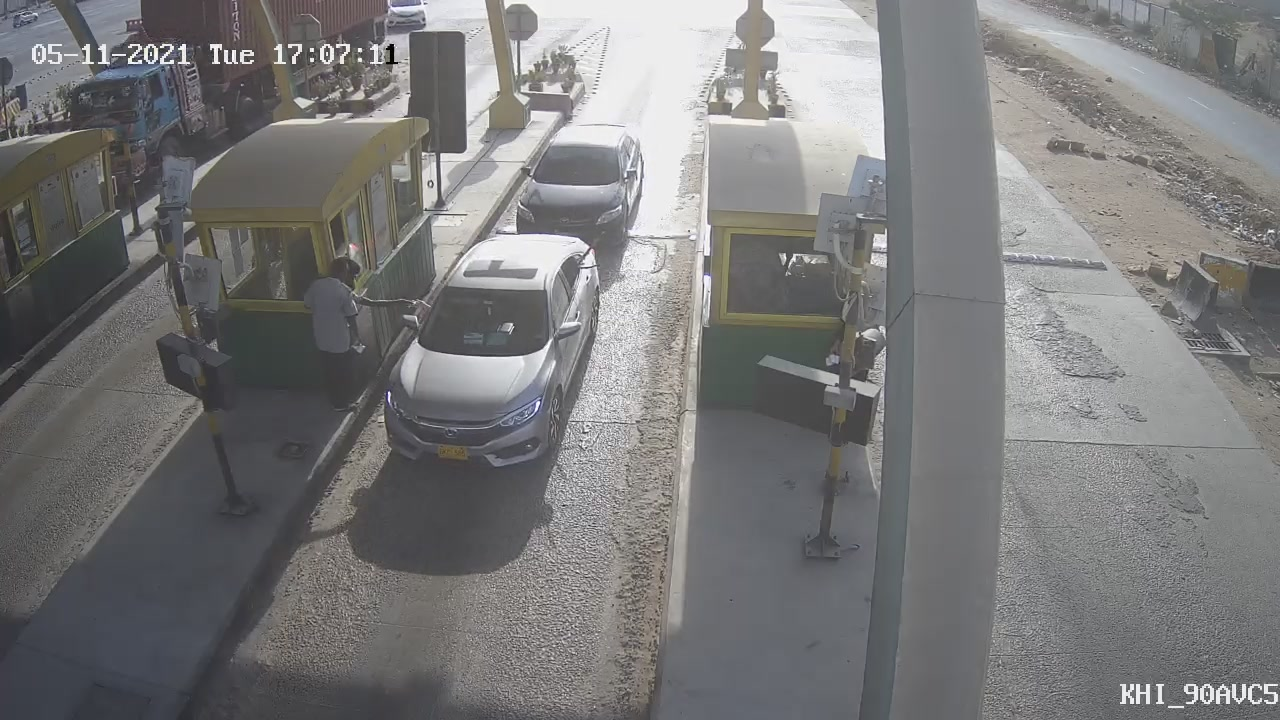F1: (361, 217, 620, 488), (491, 109, 664, 257)
